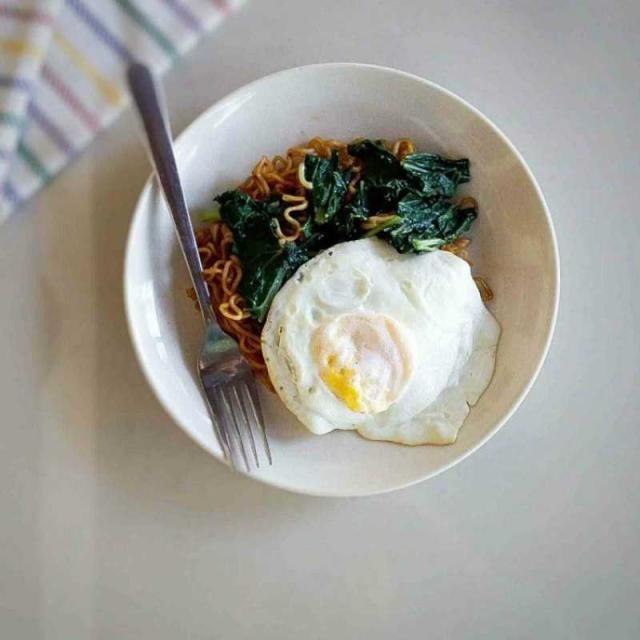Fried Egg: (268, 246, 505, 444)
